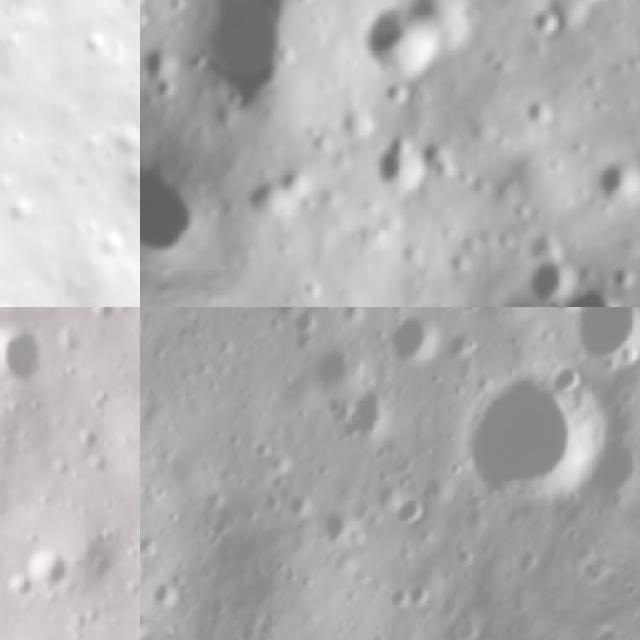crater: (435, 334, 640, 546), (151, 0, 359, 140), (334, 0, 459, 111), (228, 146, 322, 244), (140, 122, 212, 242), (356, 125, 444, 214), (394, 0, 497, 71), (550, 307, 640, 378), (331, 385, 409, 462), (301, 330, 378, 408), (571, 146, 640, 226), (378, 308, 447, 377), (509, 244, 582, 307), (407, 130, 473, 197), (545, 263, 634, 307), (379, 567, 441, 629), (140, 31, 193, 103), (0, 316, 46, 396), (408, 289, 590, 307), (507, 82, 562, 140), (92, 104, 140, 168), (71, 15, 122, 75), (383, 482, 437, 536), (517, 0, 571, 52), (284, 258, 341, 307), (277, 307, 335, 355), (535, 0, 635, 24), (28, 550, 80, 596), (0, 182, 45, 231), (89, 220, 135, 264), (621, 12, 640, 97), (626, 335, 640, 395), (140, 5, 151, 65)
